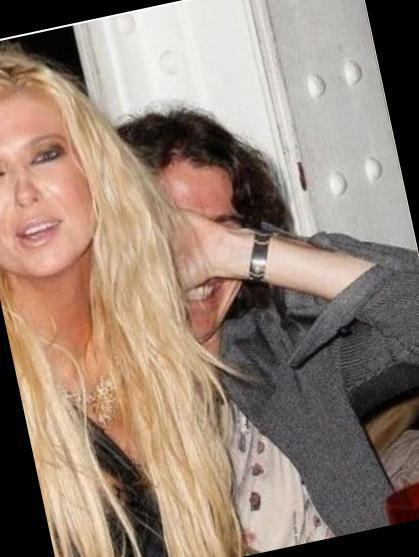Drunk: (0, 103, 98, 270)
